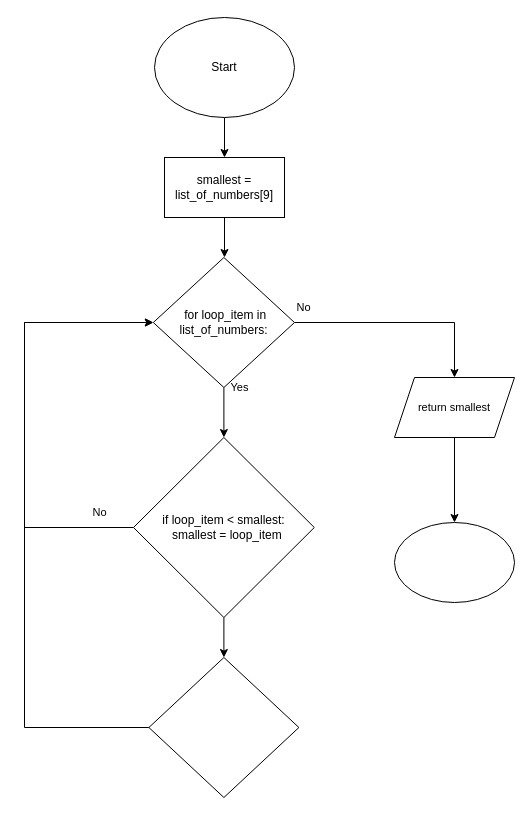
Some shapes in this 532 by 815 pixel diagram are drawn without their labels. The centre of each missing label's shape, as x and y in pixels:
"smallest = smallest" belongs at pixel 223 727.
"Stop" belongs at pixel 454 562.
